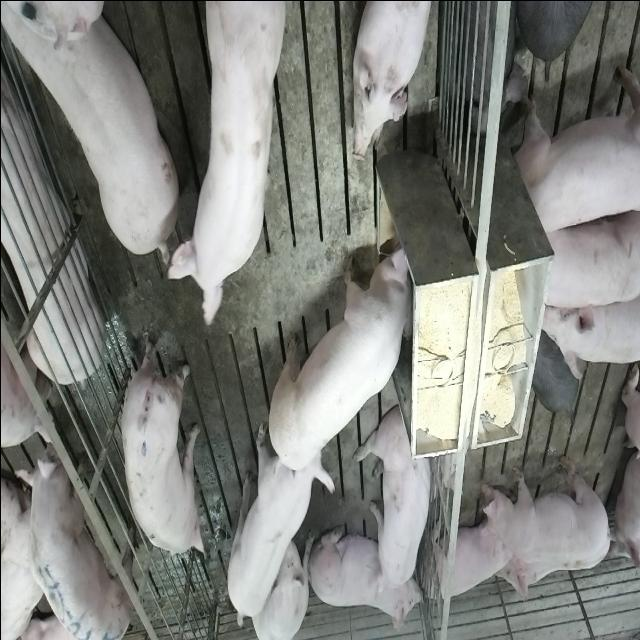Feeding: (271, 240, 421, 472)
Sitting: (360, 404, 434, 588)
Standing: (5, 5, 182, 263), (170, 2, 290, 326), (16, 434, 132, 640), (227, 416, 337, 620), (512, 60, 638, 238), (118, 330, 205, 560), (480, 451, 612, 559), (533, 206, 637, 313), (536, 277, 640, 374)
Sternal_lying: (0, 46, 100, 426), (349, 0, 434, 159), (310, 522, 426, 624), (428, 508, 510, 604)
